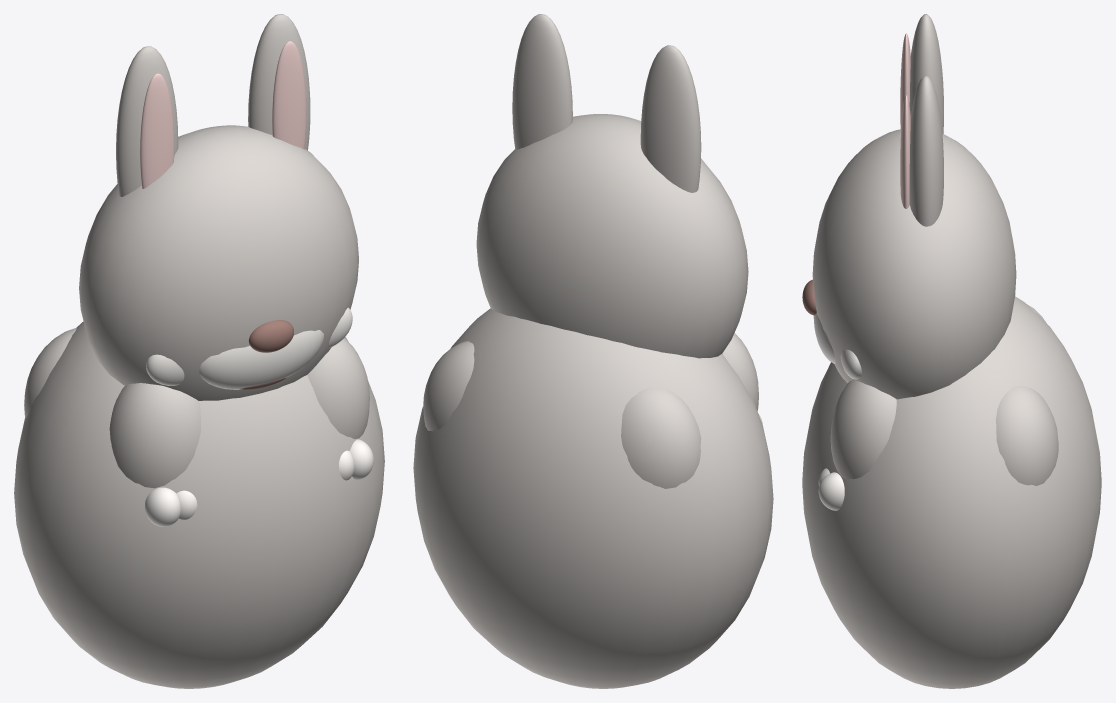
The model's file is rabbit.gltf.
3 views of the same model, side by side, from view 1: azimuth 30°, elevation 25°; view 2: azimuth 150°, elevation 25°; view 3: azimuth 270°, elevation 25° (orthographic). The views are drawn at different scales.
Parts seen in each view (by area): view 1: Body, Head, PawFront (×2), LongEar (×2), InnerEar (×2), Muzzle, Toe (×2), PawBack, Nose, Cheek; view 2: Body, Head, LongEar (×2), PawBack (×2), PawFront; view 3: Body, Head, LongEar (×2), PawBack, PawFront, InnerEar (×2), Toe, Muzzle, Cheek.
Boxes of the visible parts, x1,y1,x2,y2 form: Body: [14, 321, 384, 688]; Head: [79, 125, 358, 400]; PawFront (×2): [109, 338, 369, 488]; LongEar (×2): [116, 14, 310, 196]; InnerEar (×2): [140, 41, 306, 188]; Muzzle: [199, 330, 323, 389]; Toe (×2): [144, 439, 373, 526]; PawBack: [24, 328, 76, 417]; Nose: [248, 320, 293, 352]; Cheek: [146, 354, 184, 385]; Body: [413, 308, 773, 688]; Head: [476, 114, 748, 358]; LongEar (×2): [512, 14, 701, 192]; PawBack (×2): [423, 341, 701, 488]; PawFront: [722, 333, 758, 410]; Body: [802, 296, 1101, 688]; Head: [812, 129, 1016, 399]; LongEar (×2): [909, 14, 943, 226]; PawBack: [996, 386, 1058, 485]; PawFront: [830, 380, 896, 479]; InnerEar (×2): [900, 33, 910, 208]; Toe: [818, 472, 844, 510]; Muzzle: [813, 313, 835, 363]; Cheek: [840, 349, 861, 379].
Bounding box in the file's own units: 1.34 × 2.5 × 1.08.
